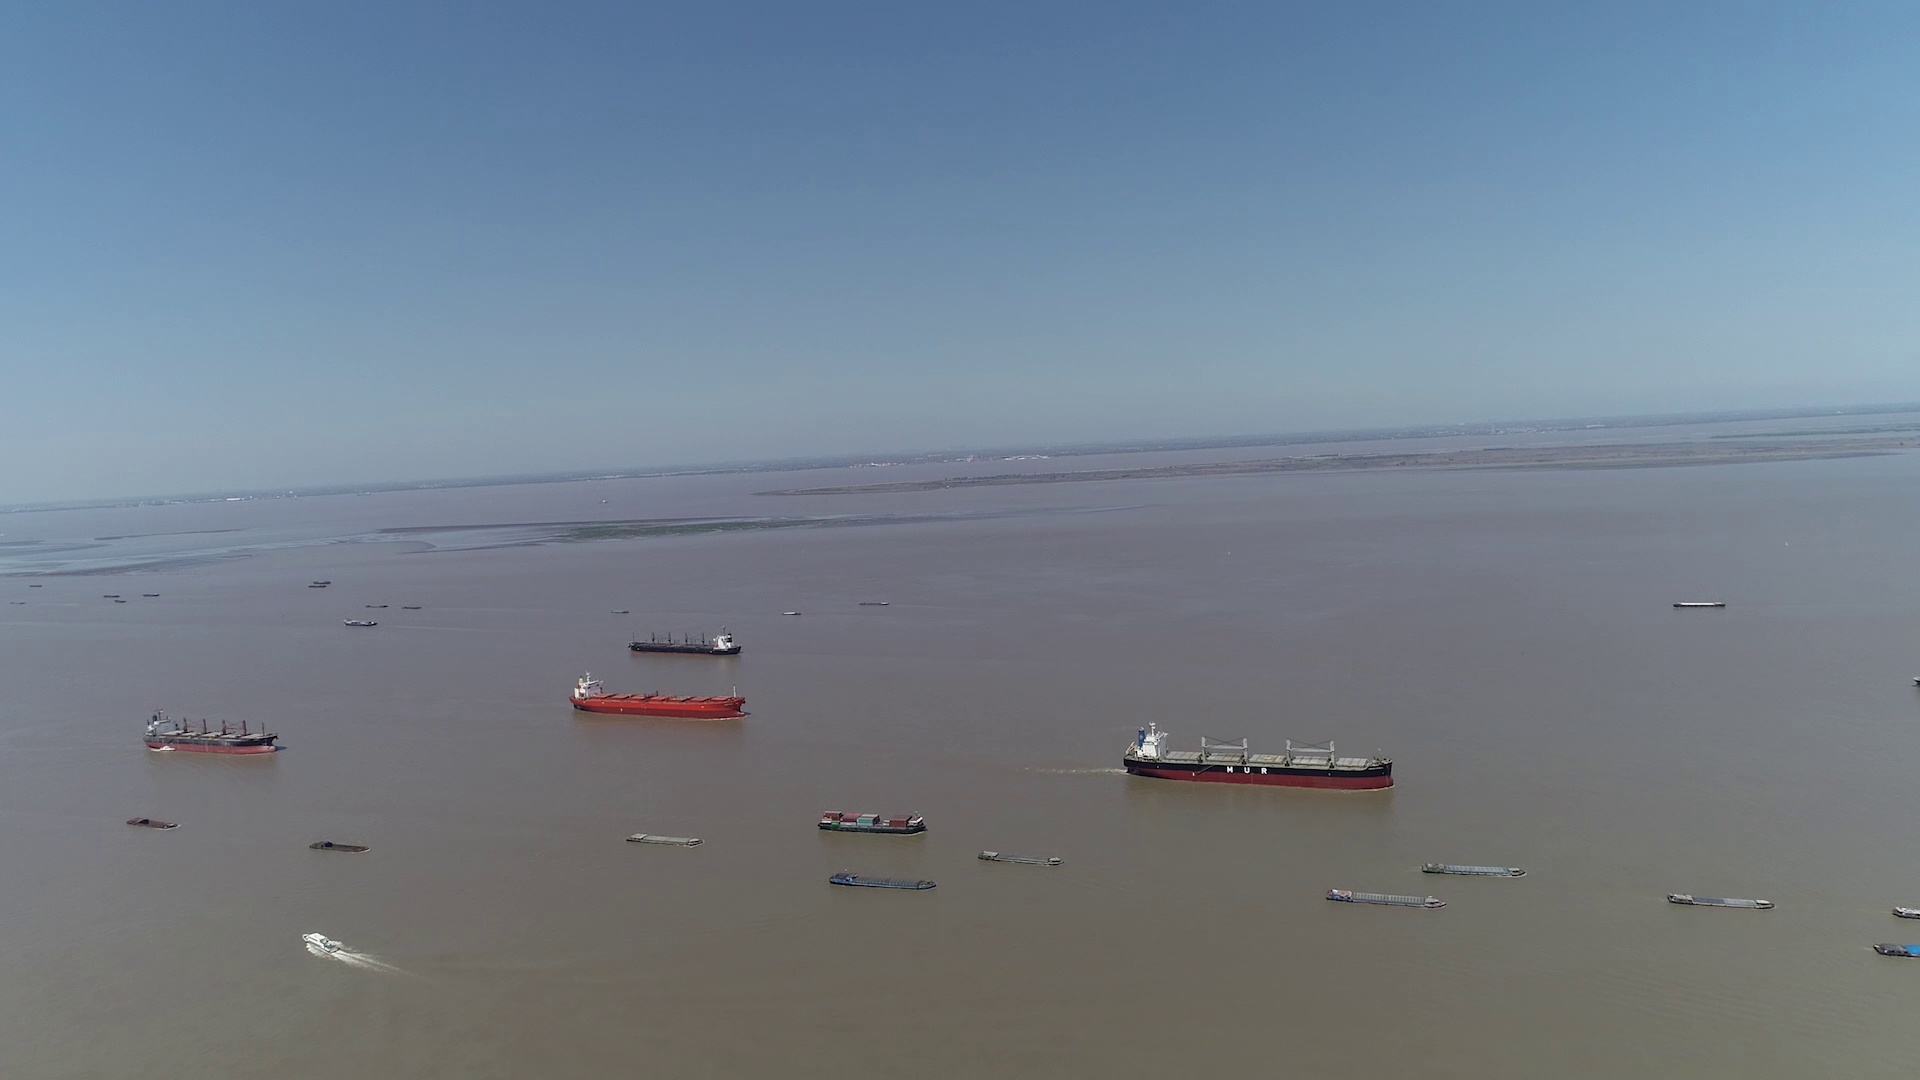ship: (1122, 723, 1393, 793), (568, 673, 742, 719), (145, 709, 277, 756), (630, 626, 742, 655), (818, 808, 928, 833), (1323, 887, 1447, 909), (829, 872, 938, 891), (1665, 890, 1774, 909), (1418, 861, 1524, 878), (978, 848, 1065, 865), (626, 833, 704, 847), (301, 928, 339, 953), (1879, 945, 1919, 967), (307, 839, 368, 852), (125, 818, 177, 829), (1892, 903, 1917, 919), (1673, 601, 1724, 608), (345, 617, 376, 626)
